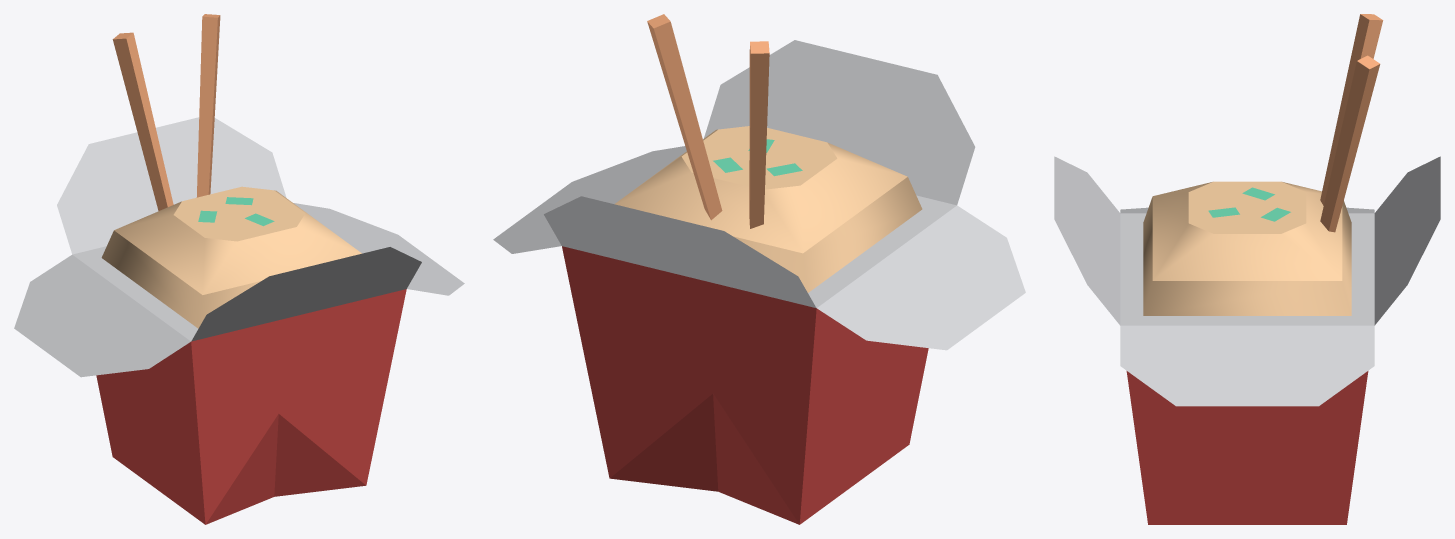
File: Chinese.glb
3 views of the same model, side by side, from view 1: azimuth 30°, elevation 25°; view 2: azimuth 150°, elevation 25°; view 3: azimuth 270°, elevation 25° (orthographic). The views are drawn at different scales.
Parts seen in each view (by area): view 1: chinese, chopstick, chopstick_1; view 2: chinese, chopstick_1, chopstick; view 3: chinese, chopstick_1, chopstick.
Boxes of the visible parts, x1,y1,x2,y2 form: chinese: [14, 117, 464, 524]; chopstick: [112, 32, 173, 210]; chopstick_1: [196, 14, 220, 197]; chinese: [493, 40, 1025, 524]; chopstick_1: [647, 14, 722, 220]; chopstick: [749, 41, 769, 228]; chinese: [1054, 156, 1440, 524]; chopstick_1: [1320, 55, 1380, 232]; chopstick: [1320, 14, 1383, 205].
Size of the model in its own units: 0.5575 by 0.5671 by 0.4538.
